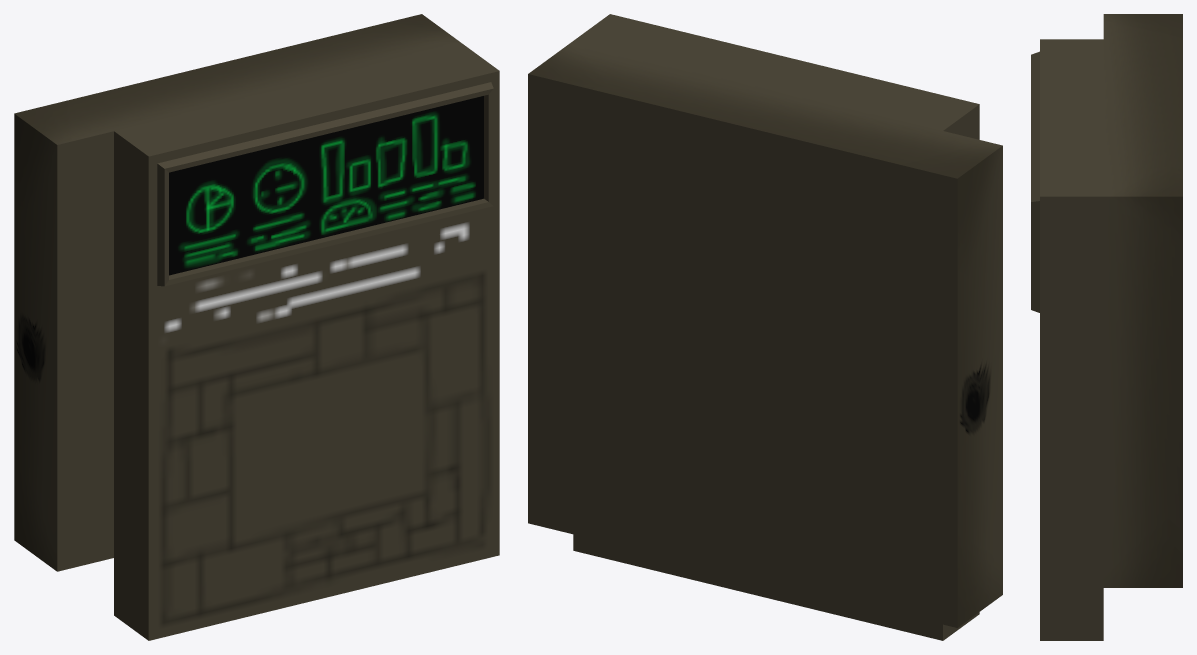
File: CyberTree_Processor.fbx
3 views of the same model, side by side, from view 1: azimuth 30°, elevation 25°; view 2: azimuth 150°, elevation 25°; view 3: azimuth 270°, elevation 25° (orthographic). The views are drawn at different scales.
Visible parts, largest first — view 1: Machine_Processor; view 2: Machine_Processor; view 3: Machine_Processor.
Boxes of the visible parts, x1,y1,x2,y2 form: Machine_Processor: [14, 14, 499, 640]; Machine_Processor: [528, 14, 1002, 640]; Machine_Processor: [1031, 14, 1182, 640].
Size of the model in its own units: 51.88 by 18.22 by 58.88.
Materials: 1 (1 with a texture image).
